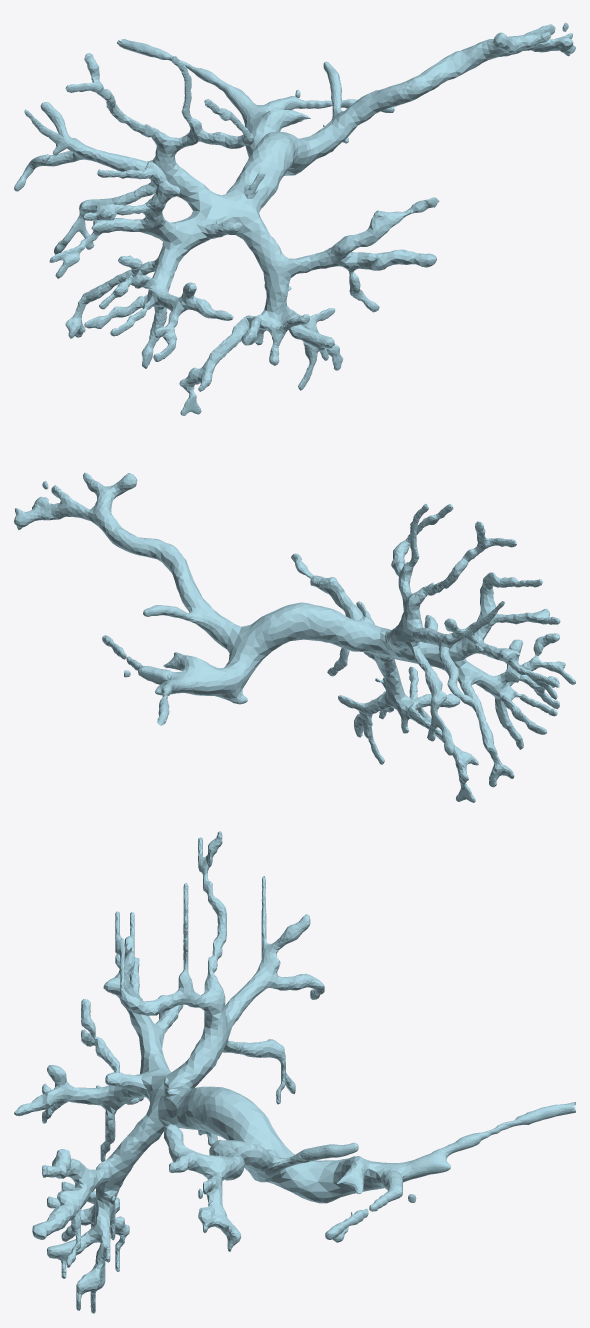
The model's file is portalvein.obj.
3 renders of one model, top to bottom at view 1: azimuth 30°, elevation 25°; view 2: azimuth 150°, elevation 25°; view 3: azimuth 270°, elevation 25°, orthographic. The views are drawn at different scales.
Parts seen in each view (by area): view 1: grp1; view 2: grp1; view 3: grp1.
Boxes of the visible parts, box(x1,y1,x2,y2) form: grp1: box(14, 22, 575, 415); grp1: box(14, 472, 575, 802); grp1: box(14, 831, 575, 1313).
Size of the model in its own units: 243 by 146 by 184.
